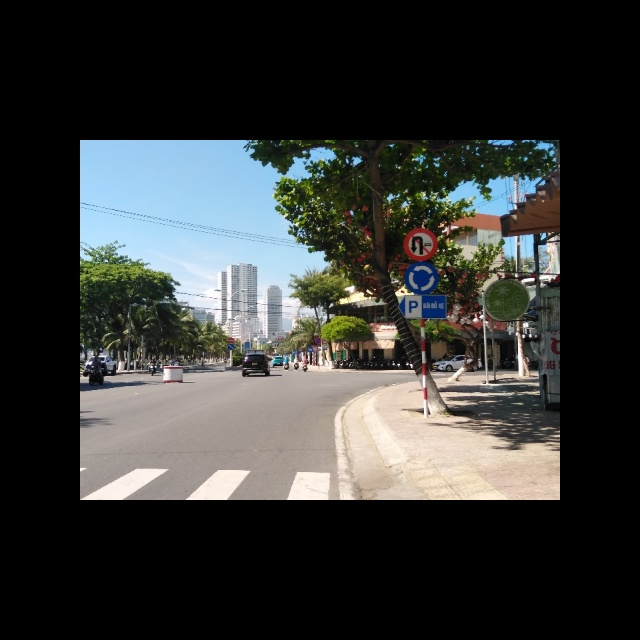Cấm xe ô tô quay đầu: (404, 227, 438, 260)
Nơi giao nhau chạy theo vòng xuyến: (405, 262, 438, 294)
Nơi đỗ xe: (398, 294, 447, 320)
